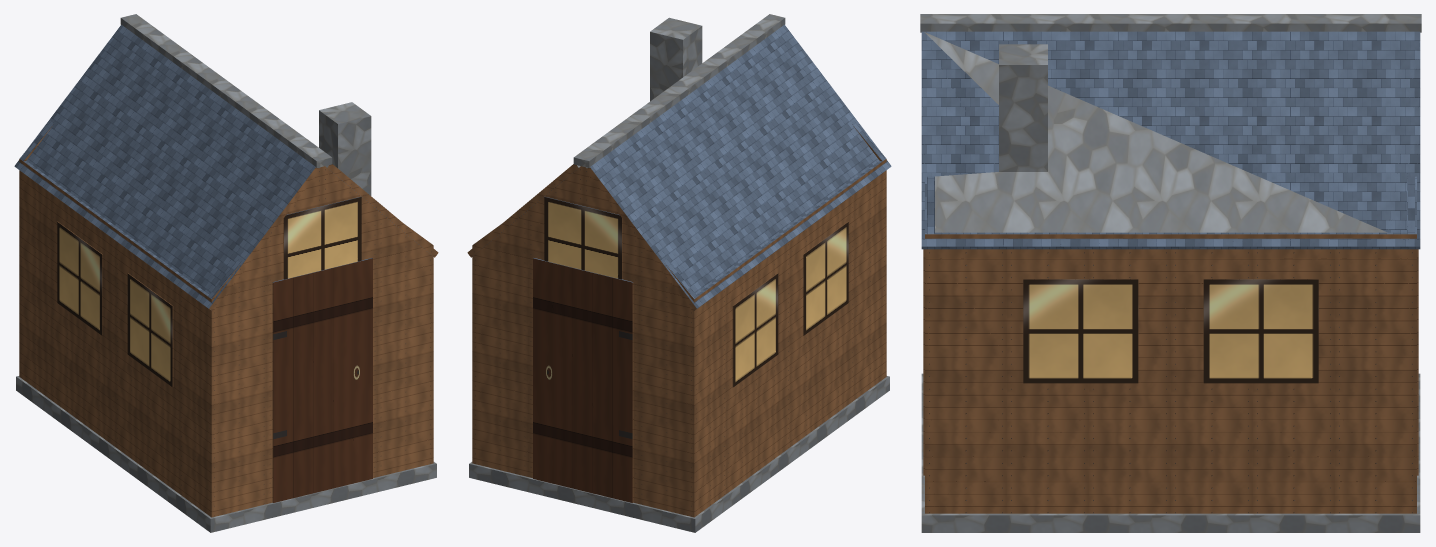
File: cabin2.glb
3 renders of one model, left to right at view 1: azimuth 30°, elevation 25°; view 2: azimuth 150°, elevation 25°; view 3: azimuth 270°, elevation 25°, orthographic. The views are drawn at different scales.
Visible parts, largest first — view 1: cabin; view 2: cabin; view 3: cabin.
Boxes of the visible parts, left/top/right/bottom form: cabin: left=14, top=14, right=438, bottom=532; cabin: left=467, top=14, right=891, bottom=532; cabin: left=920, top=14, right=1421, bottom=532.
Size of the model in its own units: 2.07 by 3 by 3.06.
Materials: 5 (5 with a texture image).
